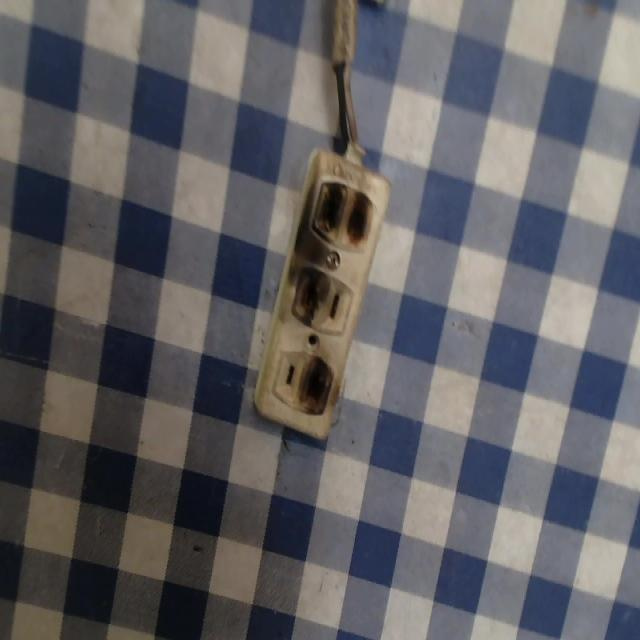-: (303, 171, 389, 248), (274, 258, 330, 326), (297, 354, 339, 414)
